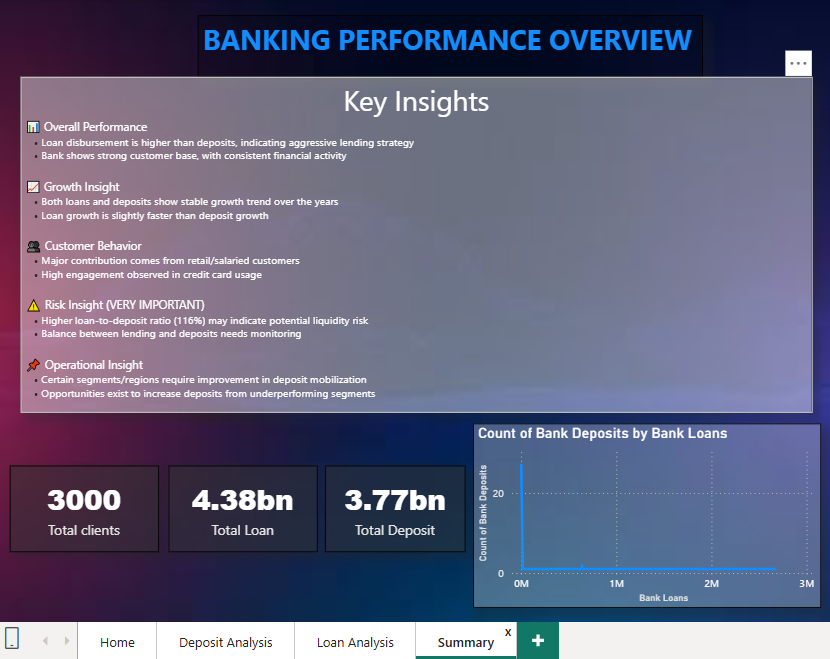

What the dashboard file says about the page in this screenshot:
{"tool":"powerbi","page":{"name":"Summary","canvas":[960,720],"ordinal":3},"visuals":[{"type":"textbox","box":[229.5,18.7,583.6,71.1],"z":0},{"type":"card","fields":{"Values":["Banking_case_customer.Total Loan"]},"box":[195.8,538.7,172.1,99.8],"z":1000},{"type":"card","fields":{"Values":["Banking_case_customer.Total Deposit"]},"box":[376.6,538.7,162.1,99.8],"z":2000},{"type":"card","fields":{"Values":["CountNonNull(Banking_case_customer.Client ID)"]},"box":[12.5,538.7,172.1,99.8],"z":3000},{"type":"textbox","box":[24.9,89.8,914.1,387.8],"z":4000},{"type":"lineChart","fields":{"Category":["Banking_case_customer.Bank Loans"],"Y":["CountNonNull(Banking_case_customer.Bank Deposits)"]},"box":[547.5,490.1,401.6,213.3],"z":5000}]}

Visuals, with their boxes on the page's 960x720 design canvas (x1, y1, x2, y2). These are canvas units, not pixel positions in the 830x659 screenshot, which may show the page scaled, cropped or inside an application window:
textbox: Rect(230, 19, 813, 90)
card - Banking_case_customer.Total Loan: Rect(196, 539, 368, 638)
card - Banking_case_customer.Total Deposit: Rect(377, 539, 539, 638)
card - CountNonNull(Banking_case_customer.Client ID): Rect(12, 539, 185, 638)
textbox: Rect(25, 90, 939, 478)
lineChart - Banking_case_customer.Bank Loans x CountNonNull(Banking_case_customer.Bank Deposits): Rect(548, 490, 949, 703)
